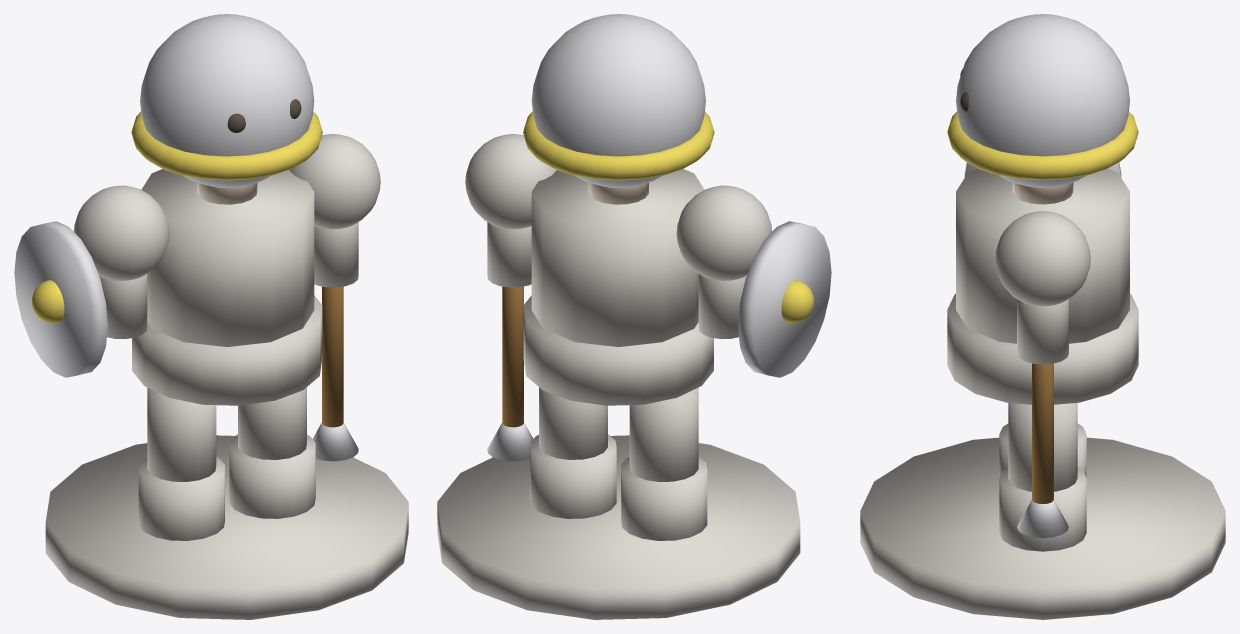
Rendered from Tot.glb.
3 views of the same model, side by side, from view 1: azimuth 30°, elevation 25°; view 2: azimuth 150°, elevation 25°; view 3: azimuth 270°, elevation 25° (orthographic).
Visible parts, largest first — view 1: Pawn; view 2: Pawn; view 3: Pawn.
Boxes of the visible parts, left/top/right/bottom form: Pawn: left=14, top=14, right=408, bottom=619; Pawn: left=437, top=14, right=831, bottom=619; Pawn: left=860, top=14, right=1225, bottom=619.
Size of the model in its own units: 0.93 by 1.32 by 0.84.
